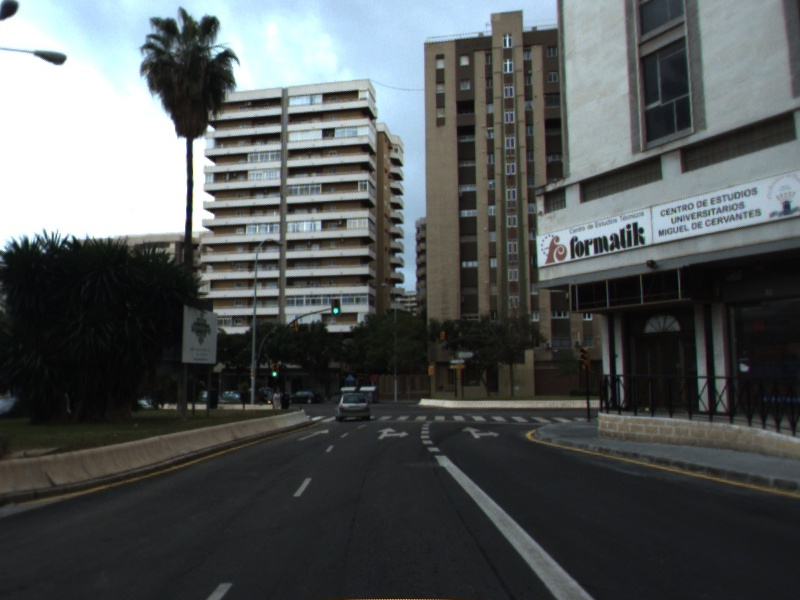STRAIGHT: (296, 427, 331, 442)
STRAIGHT_RIGHT: (459, 424, 503, 440), (374, 425, 411, 441)
